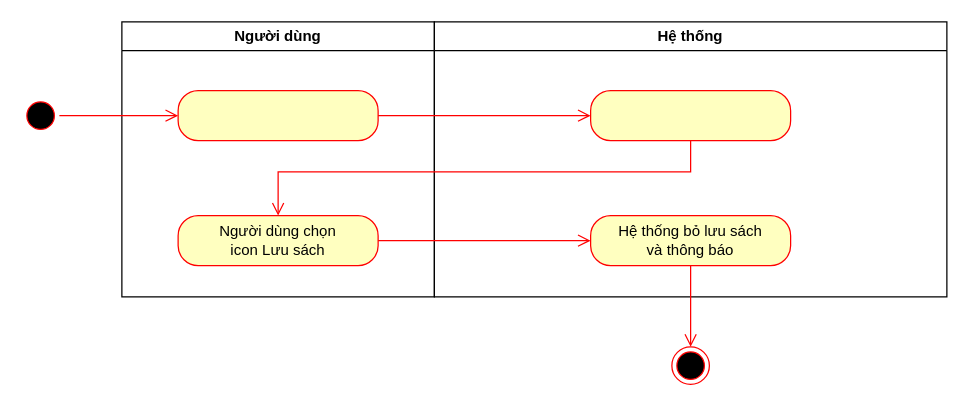
Some shapes in this 969 by 406 pixel diagram are drawn without their labels. Here are the shapes that lost their labels. From the top down, the centre of each, then its label:
At (x=277, y=115): "Người dùng truy cập màn Chi tiết sách".
At (x=690, y=115): "Hệ thống hiển thị thông tin sách".
